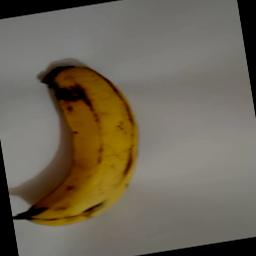Banana Unripe: (0, 55, 155, 231)
